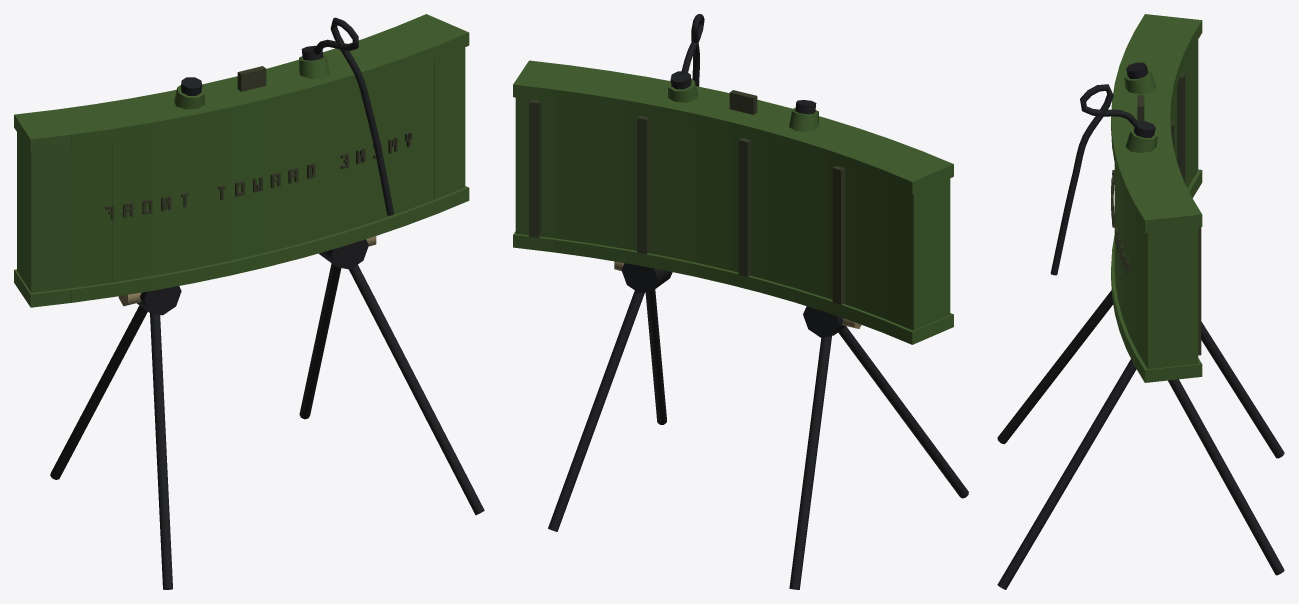
File: m18-claymore-mine-deployed.glb
The picture shows the model from 3 angles, left to right: view 1: azimuth 30°, elevation 25°; view 2: azimuth 150°, elevation 25°; view 3: azimuth 270°, elevation 25°; orthographic projection. The views are drawn at different scales.
Parts seen in each view (by area): view 1: Mesh_BodySeg_11, Mesh_BodySeg_10, Mesh_BodySeg_8, Mesh_BodySeg_9, Mesh_BodySeg_7, Mesh_BodySeg_5, Mesh_BodySeg_6, Mesh_BodySeg_4, Mesh_BodySeg_1, Mesh_BodySeg_3, Mesh_BodySeg_0, Mesh_BodySeg_2 (+26 smaller); view 2: Mesh_BodySeg_11, Mesh_BodySeg_1, Mesh_BodySeg_2, Mesh_BodySeg_4, Mesh_BodySeg_5, Mesh_BodySeg_7, Mesh_BodySeg_8, Mesh_BodySeg_10, Mesh_BodySeg_0, Mesh_BodySeg_3, Mesh_BodySeg_6, Mesh_LegR_Back (+25 smaller); view 3: Mesh_BodySeg_0, Mesh_LegL_Front, Mesh_LegL_Back, Mesh_WireStub, Mesh_TopRim_0, Mesh_LegR_Front, Mesh_LegR_Back, Mesh_BodySeg_11, Mesh_TopRim_11, Mesh_TopRim_1, Mesh_TopRim_10, Mesh_BodySeg_1 (+17 smaller).
Part boxes in pixels (bbox=[...]): Mesh_BodySeg_11: bbox=[17, 132, 72, 292]; Mesh_BodySeg_10: bbox=[72, 142, 113, 287]; Mesh_BodySeg_8: bbox=[151, 128, 191, 275]; Mesh_BodySeg_9: bbox=[112, 135, 152, 282]; Mesh_BodySeg_7: bbox=[190, 121, 228, 268]; Mesh_BodySeg_5: bbox=[265, 103, 302, 252]; Mesh_BodySeg_6: bbox=[228, 112, 265, 260]; Mesh_BodySeg_4: bbox=[301, 93, 337, 242]; Mesh_BodySeg_1: bbox=[403, 60, 435, 211]; Mesh_BodySeg_3: bbox=[336, 82, 370, 233]; Mesh_BodySeg_0: bbox=[434, 47, 465, 199]; Mesh_BodySeg_2: bbox=[370, 71, 403, 222]; Mesh_BodySeg_11: bbox=[885, 178, 950, 330]; Mesh_BodySeg_1: bbox=[554, 102, 590, 243]; Mesh_BodySeg_2: bbox=[591, 107, 626, 248]; Mesh_BodySeg_4: bbox=[662, 119, 696, 262]; Mesh_BodySeg_5: bbox=[696, 127, 730, 270]; Mesh_BodySeg_7: bbox=[763, 143, 795, 287]; Mesh_BodySeg_8: bbox=[795, 152, 826, 297]; Mesh_BodySeg_10: bbox=[856, 172, 884, 318]; Mesh_BodySeg_0: bbox=[515, 97, 554, 238]; Mesh_BodySeg_3: bbox=[627, 113, 661, 255]; Mesh_BodySeg_6: bbox=[730, 134, 763, 278]; Mesh_LegR_Back: bbox=[789, 336, 831, 589]; Mesh_BodySeg_0: bbox=[1137, 221, 1198, 369]; Mesh_LegL_Front: bbox=[997, 359, 1136, 589]; Mesh_LegL_Back: bbox=[1168, 379, 1284, 575]; Mesh_WireStub: bbox=[1050, 84, 1140, 275]; Mesh_TopRim_0: bbox=[1133, 196, 1202, 233]; Mesh_LegR_Front: bbox=[997, 290, 1113, 444]; Mesh_LegR_Back: bbox=[1201, 321, 1284, 458]; Mesh_BodySeg_11: bbox=[1188, 40, 1198, 185]; Mesh_TopRim_11: bbox=[1134, 14, 1202, 49]; Mesh_TopRim_1: bbox=[1125, 180, 1190, 215]; Mesh_TopRim_10: bbox=[1126, 31, 1192, 64]; Mesh_BodySeg_1: bbox=[1129, 206, 1137, 351].
Size of what is drawn, in the model's own units: 0.281 by 0.2936 by 0.1651.
